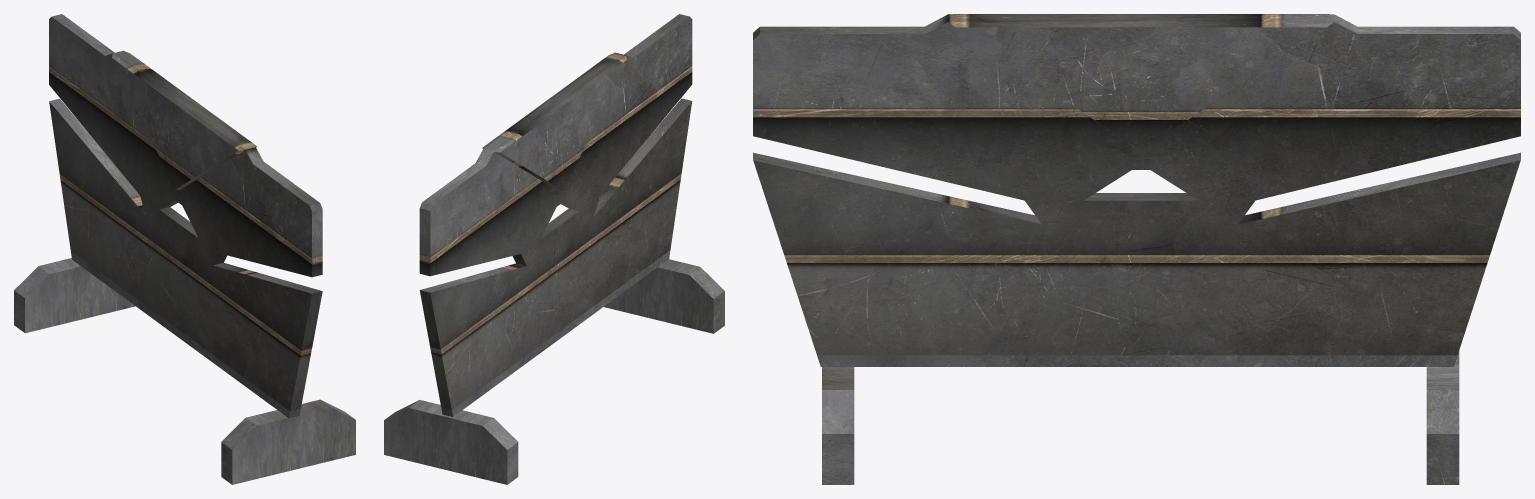
Rendered from barriere_meta_01.FBX.
3 views of the same model, side by side, from view 1: azimuth 30°, elevation 25°; view 2: azimuth 150°, elevation 25°; view 3: azimuth 270°, elevation 25° (orthographic). The views are drawn at different scales.
Parts seen in each view (by area): view 1: Barriere; view 2: Barriere; view 3: Barriere.
Part boxes in pixels (x1,y1,x2,y2): Barriere: (14, 14, 355, 484); Barriere: (384, 14, 724, 484); Barriere: (753, 14, 1520, 484).
Size of the model in its own units: 5741 by 12836 by 21140.
